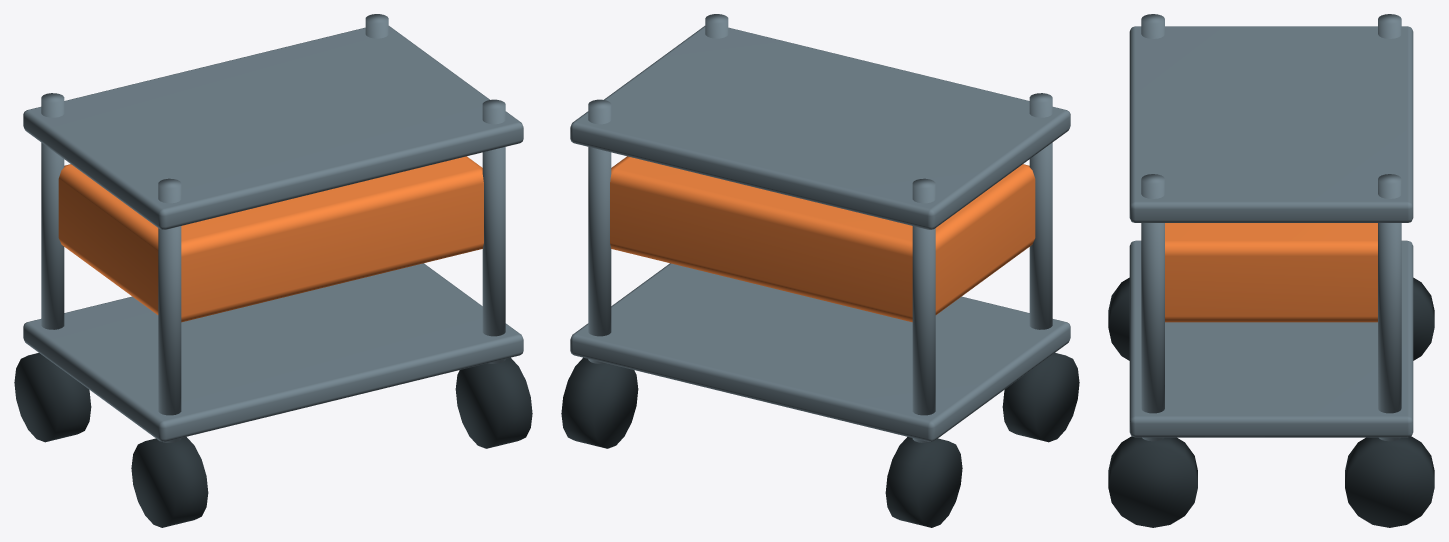
The model's file is SM_FE_RepairCart.fbx.
The picture shows the model from 3 angles, left to right: view 1: azimuth 30°, elevation 25°; view 2: azimuth 150°, elevation 25°; view 3: azimuth 270°, elevation 25°; orthographic projection.
Visible parts, largest first — view 1: SM_FE_RepairCart; view 2: SM_FE_RepairCart; view 3: SM_FE_RepairCart.
Boxes of the visible parts, left/top/right/bottom form: SM_FE_RepairCart: left=14, top=14, right=532, bottom=527; SM_FE_RepairCart: left=561, top=14, right=1079, bottom=527; SM_FE_RepairCart: left=1108, top=14, right=1434, bottom=527.
Size of the model in its own units: 90 by 69 by 79.5.
